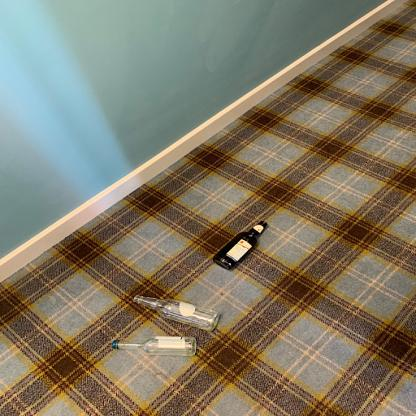trash: (129, 295, 224, 334), (216, 218, 272, 270), (108, 336, 197, 356)
